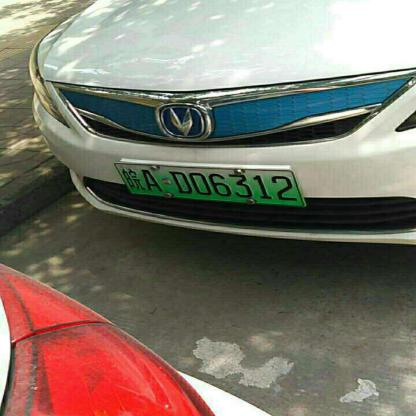lp: (113, 163, 306, 206)
